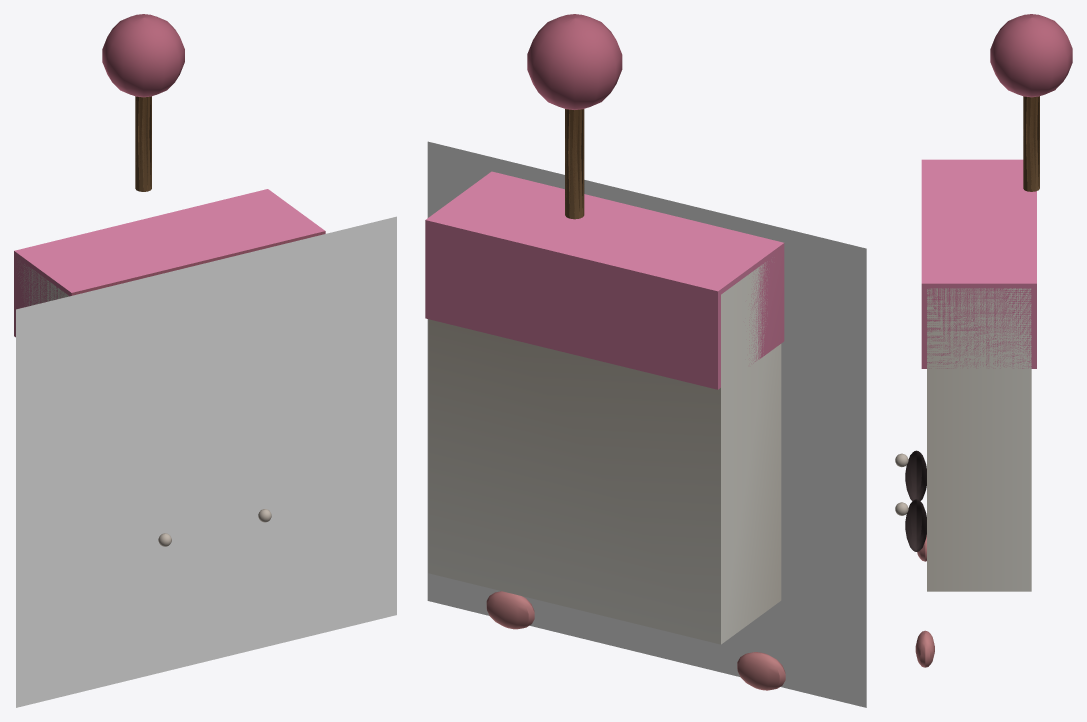
3 views of the same model, side by side, from view 1: azimuth 30°, elevation 25°; view 2: azimuth 150°, elevation 25°; view 3: azimuth 270°, elevation 25° (orthographic). The views are drawn at different scales.
Parts seen in each view (by area): view 1: pet_pc983bd16; view 2: pet_pc983bd16; view 3: pet_pc983bd16.
Part boxes in pixels (box(x1,y1,x2,y2)): pet_pc983bd16: box(14, 14, 396, 707); pet_pc983bd16: box(425, 14, 866, 707); pet_pc983bd16: box(895, 14, 1072, 667).
Bounding box in the file's own units: 0.42 × 0.63 × 0.1698.
